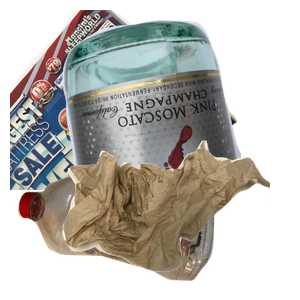glass: (60, 17, 300, 197)
paper: (10, 10, 240, 190)
plastic: (15, 173, 222, 300)
trash: (60, 138, 300, 300)
